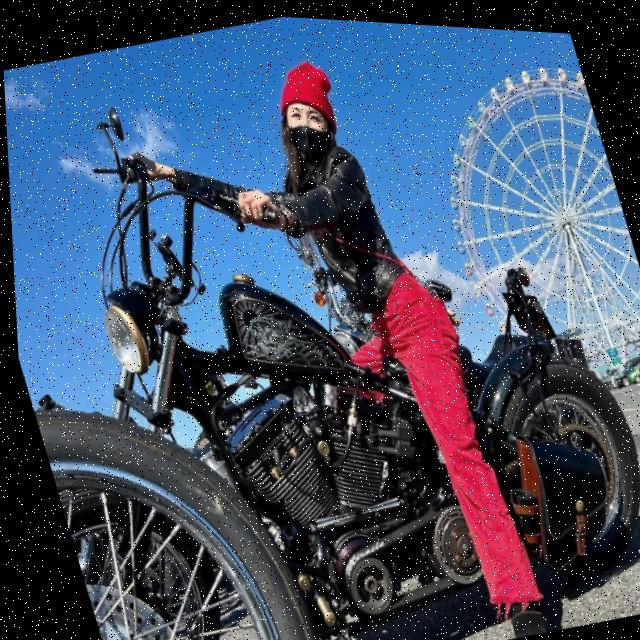illegal_helmet: (257, 48, 357, 176)
